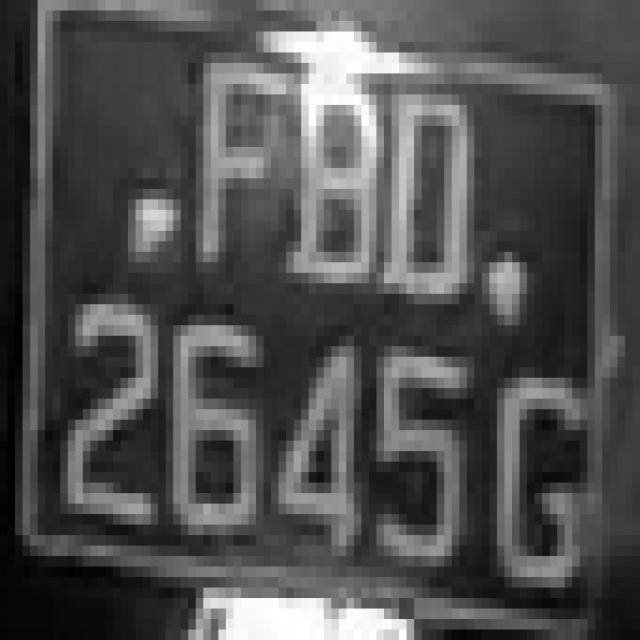2: (52, 252, 166, 556)
4: (264, 294, 376, 598)
5: (369, 325, 467, 588)
6: (158, 273, 264, 556)
B: (286, 74, 392, 346)
D: (369, 63, 482, 315)
F: (173, 31, 286, 315)
G: (482, 325, 617, 619)
